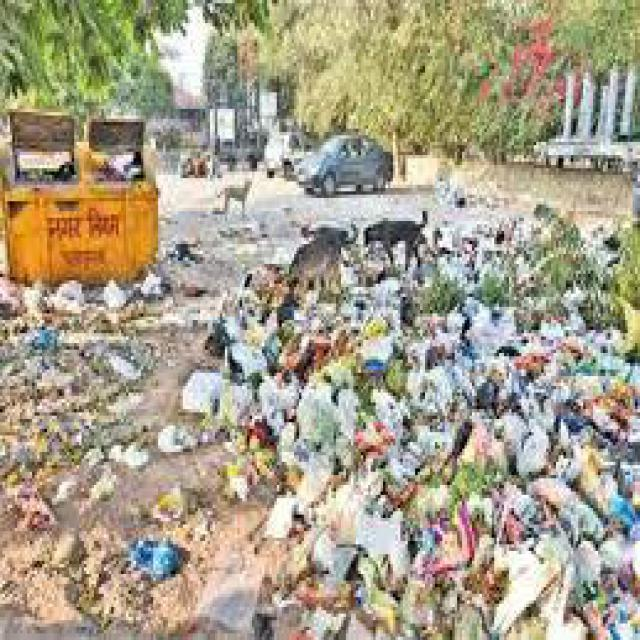garbage: (255, 238, 638, 636), (0, 277, 144, 499), (192, 290, 250, 452)
